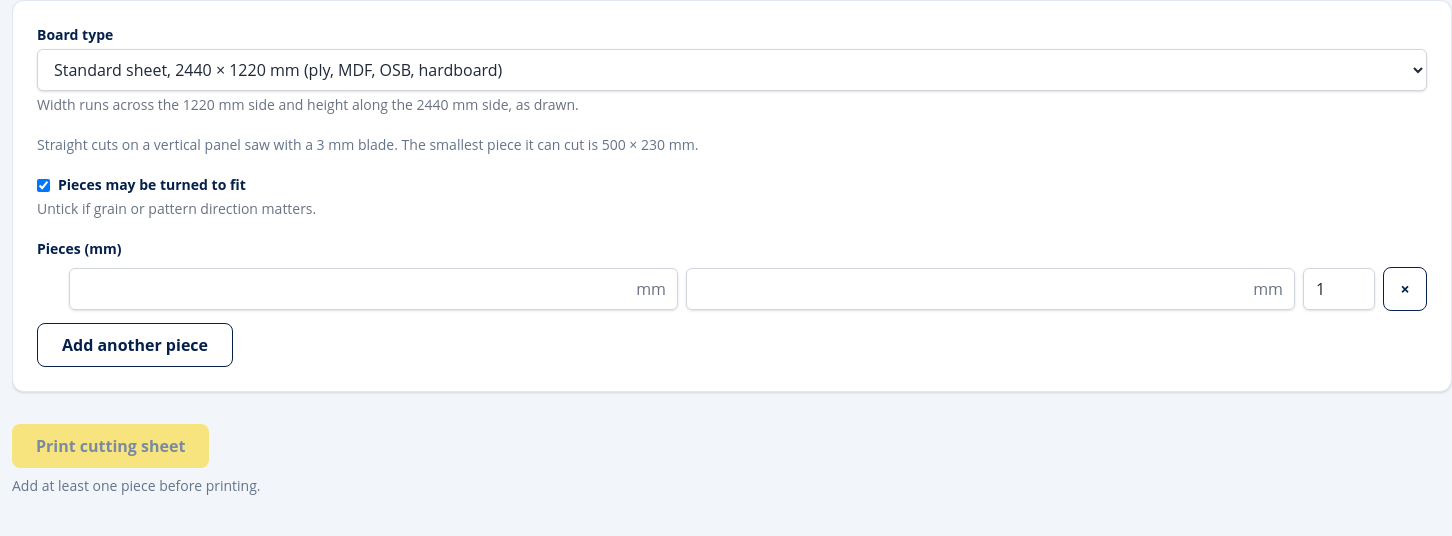
BoardCuttingCalculator › waits for both sizes or a blur before showing a row error
This screenshot has width=1452, height=536.
Type "800" into the number field named "Width of new piece" at (374, 289), box [69, 268, 678, 310]
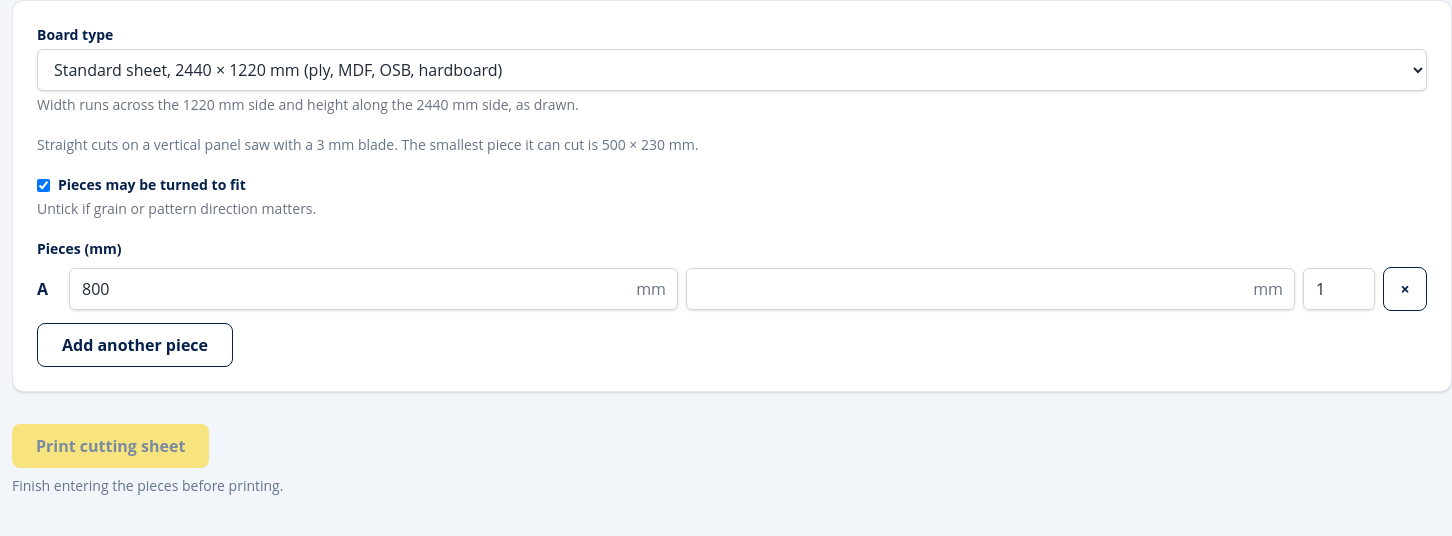
Expected: the text "Enter a width and height in whole mm above 0" is not shown
Expected: the button "Print cutting sheet" is disabled, [12, 424, 209, 468]
Leave the number field named "Width of piece A", box [69, 268, 678, 310]
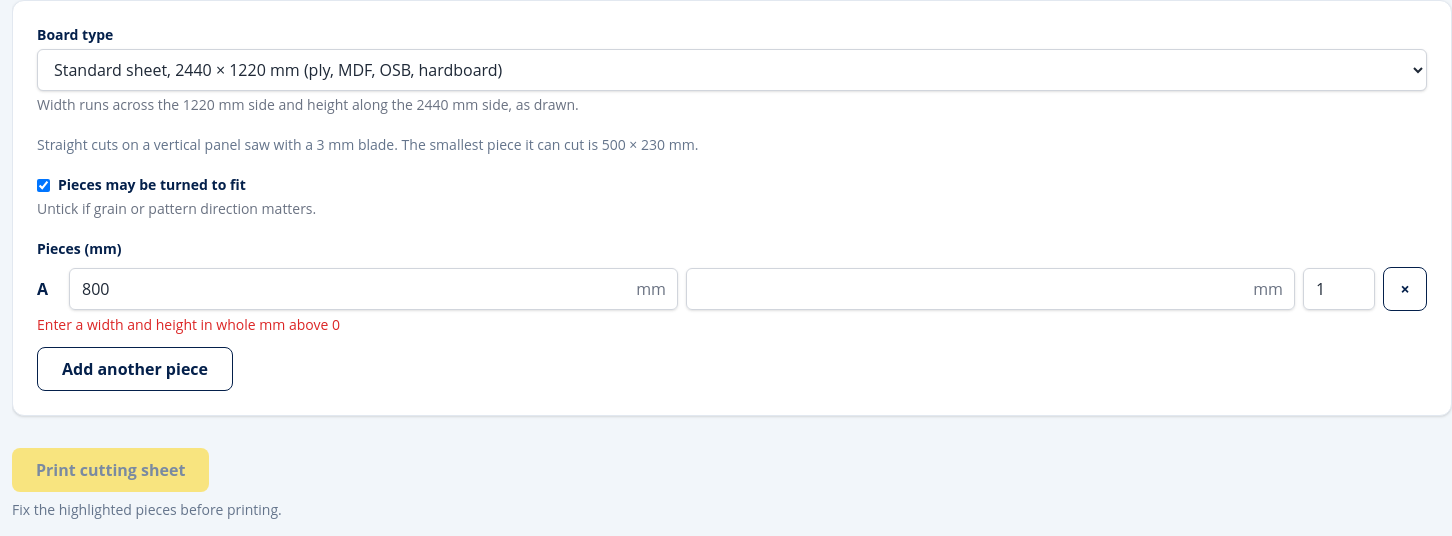
Result: the text "Enter a width and height in whole mm above 0" is shown at [37, 315, 340, 334]
